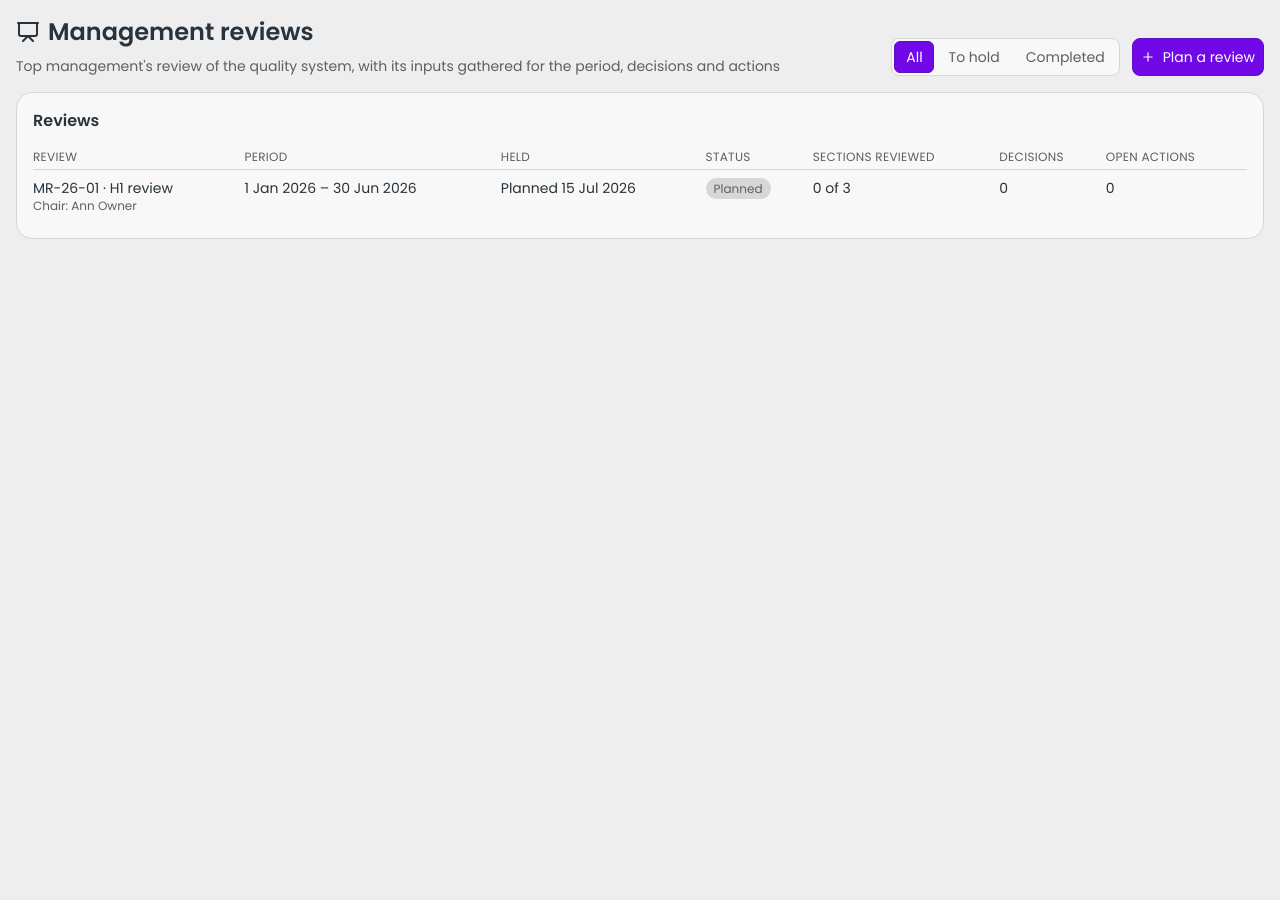
Test case: management reviews › lists the reviews and plans a new one
The image size is (1280, 900).
Expected: the row that starts with "MR-26-01" shows "MR-26-01 · H1 review", [33, 170, 1247, 222]
Expected: the row that starts with "MR-26-01" shows "Planned 15 Jul 2026", [501, 178, 636, 198]
Click the button "Plan a review" at (1198, 57), box [1132, 38, 1264, 76]
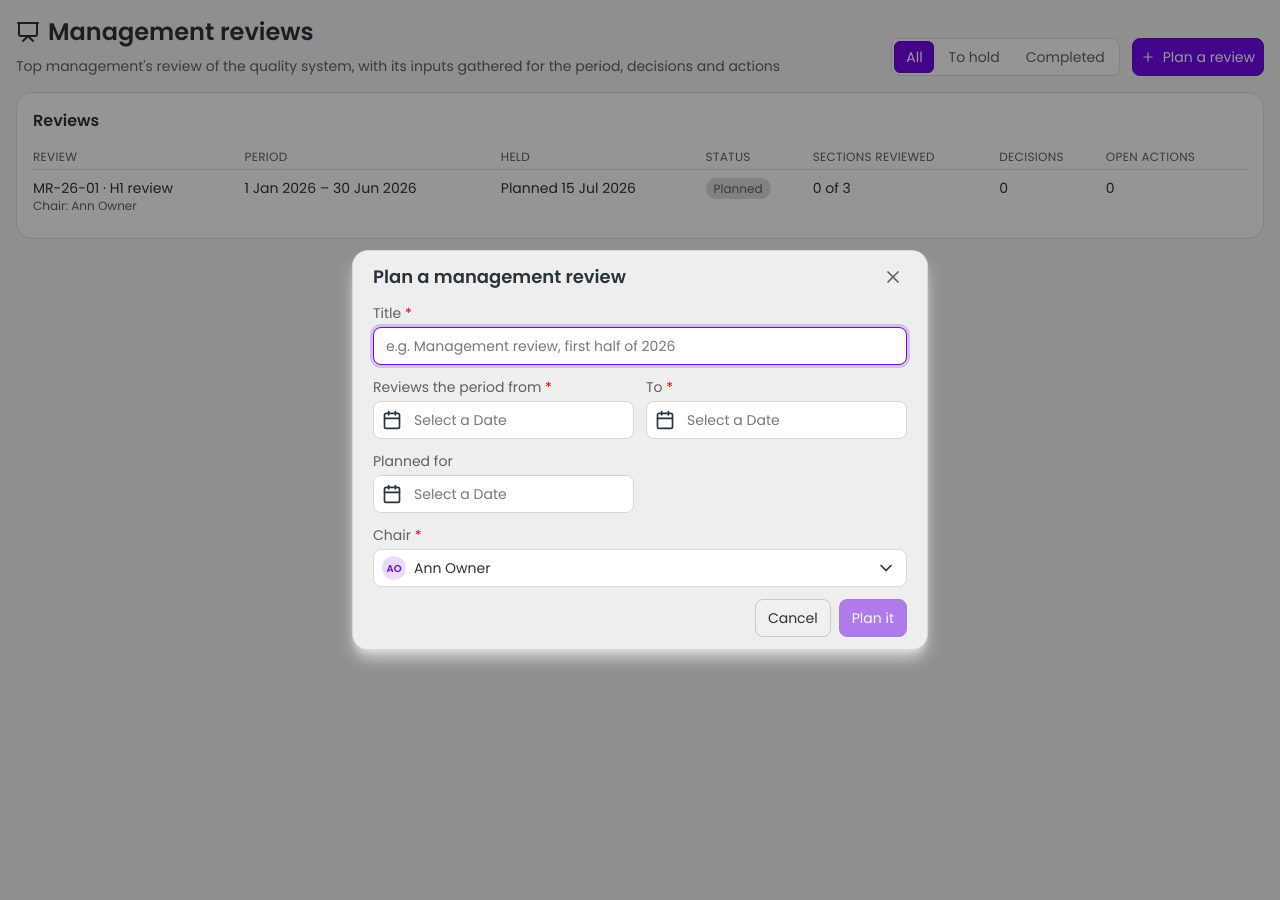
Expected: the button "Plan it" is disabled, [839, 599, 907, 637]
